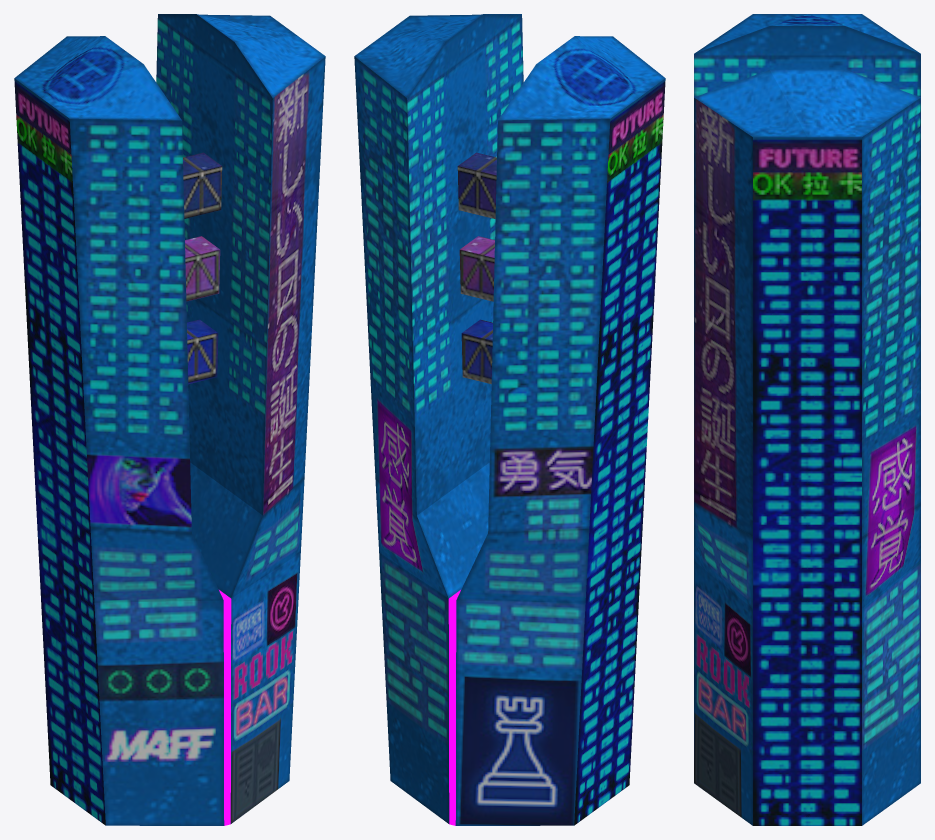
File: Etherium_Rook.glb
3 views of the same model, side by side, from view 1: azimuth 30°, elevation 25°; view 2: azimuth 150°, elevation 25°; view 3: azimuth 270°, elevation 25° (orthographic).
Parts seen in each view (by area): view 1: Ladja; view 2: Ladja; view 3: Ladja.
Part boxes in pixels (x1,y1,x2,y2): Ladja: [14, 14, 325, 825]; Ladja: [354, 14, 665, 825]; Ladja: [694, 14, 920, 825].
Size of the model in its own units: 0.6048 by 1.68 by 0.4704.
2 materials, 1 textured.
